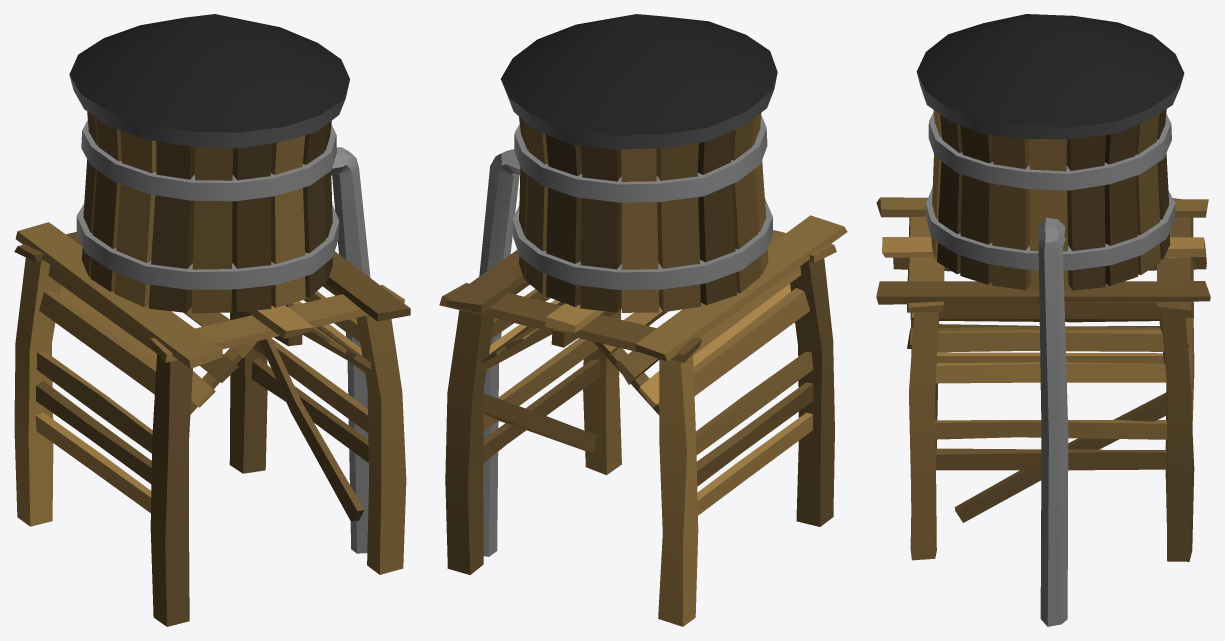
Rendered from large water tower.fbx.
3 views of the same model, side by side, from view 1: azimuth 30°, elevation 25°; view 2: azimuth 150°, elevation 25°; view 3: azimuth 270°, elevation 25° (orthographic). The views are drawn at different scales.
Visible parts, largest first — view 1: large water tower_LOD0; view 2: large water tower_LOD0; view 3: large water tower_LOD0.
Part boxes in pixels (x1,y1,x2,y2): large water tower_LOD0: (14, 14, 410, 626); large water tower_LOD0: (439, 14, 847, 626); large water tower_LOD0: (876, 14, 1210, 626).
Size of what is drawn, in the model's own units: 35.91 by 68.25 by 38.59.
